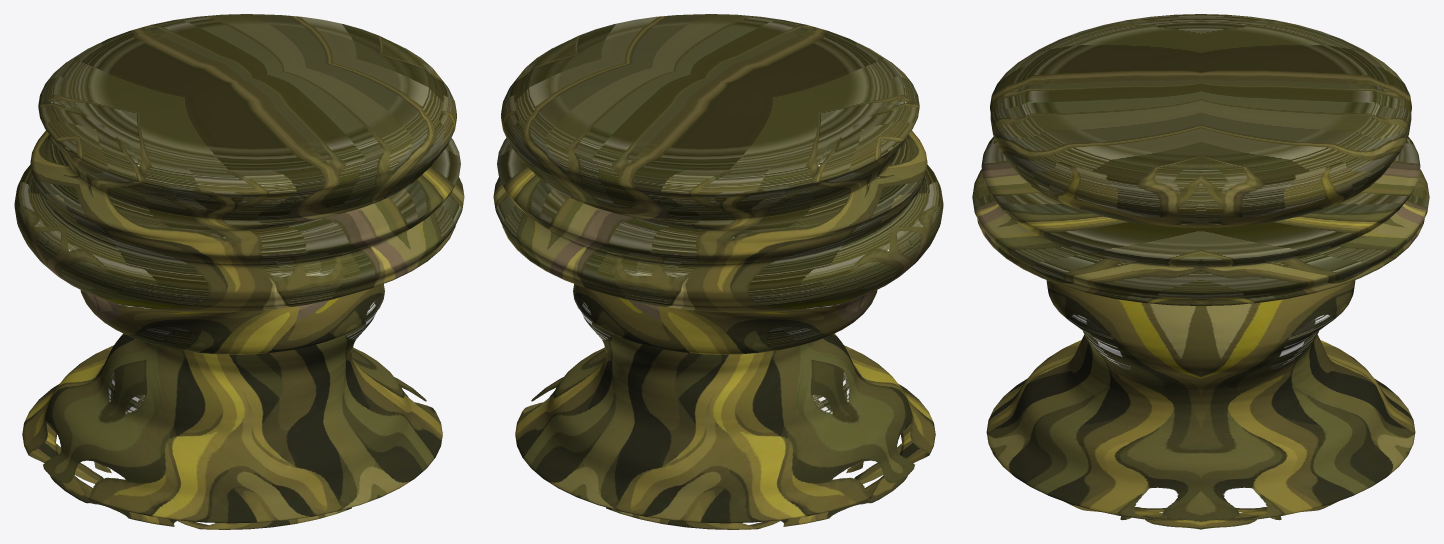
Rendered from forest_tree.glb.
3 renders of one model, left to right at view 1: azimuth 30°, elevation 25°; view 2: azimuth 150°, elevation 25°; view 3: azimuth 270°, elevation 25°, orthographic.
Parts seen in each view (by area): view 1: forest_tree; view 2: forest_tree; view 3: forest_tree.
Part boxes in pixels (x1,y1,x2,y2): forest_tree: (14, 14, 464, 529); forest_tree: (493, 14, 943, 529); forest_tree: (972, 14, 1429, 529).
Size of the model in its own units: 0.9974 by 0.9386 by 0.9929.
1 material, 1 textured.
